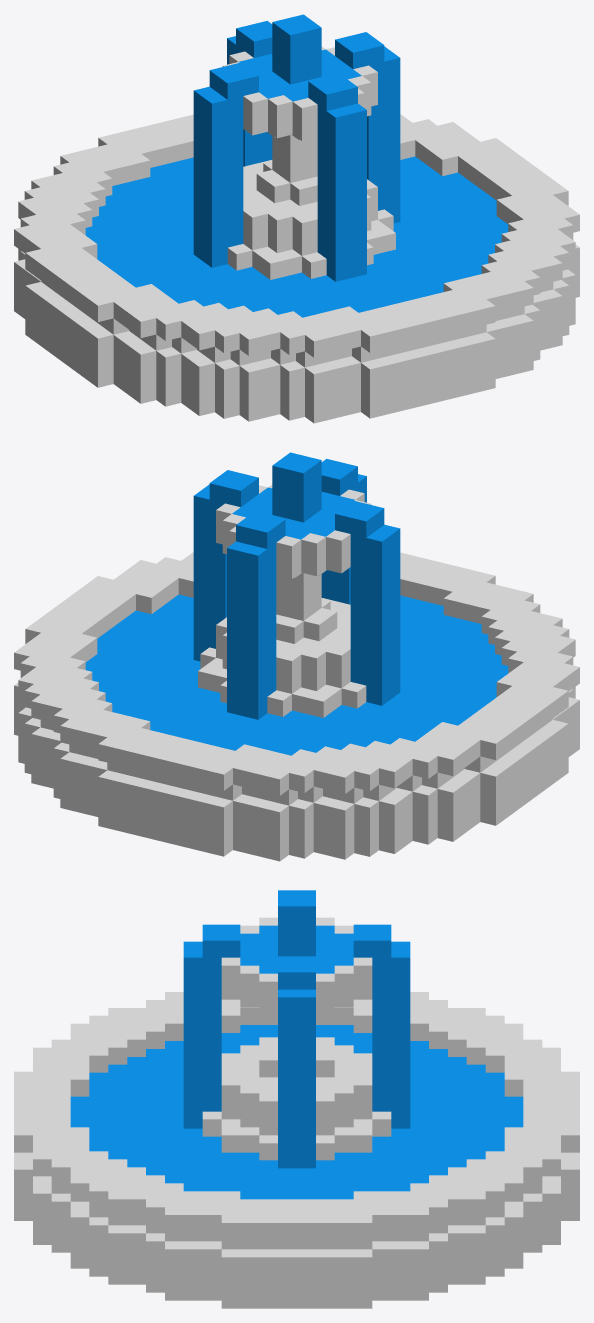
Rendered from Plaza-0-Fuente.obj.
3 views of the same model, one above another, from view 1: azimuth 30°, elevation 25°; view 2: azimuth 150°, elevation 25°; view 3: azimuth 270°, elevation 25° (orthographic). The views are drawn at different scales.
Visible parts, largest first — view 1: Fuente; view 2: Fuente; view 3: Fuente.
Part boxes in pixels (<box>): Fuente: <box>14,14,579,423</box>; Fuente: <box>14,452,579,861</box>; Fuente: <box>14,890,579,1308</box>.
Size of the model in its own units: 3 by 1.7 by 3.
1 material, 1 textured.
